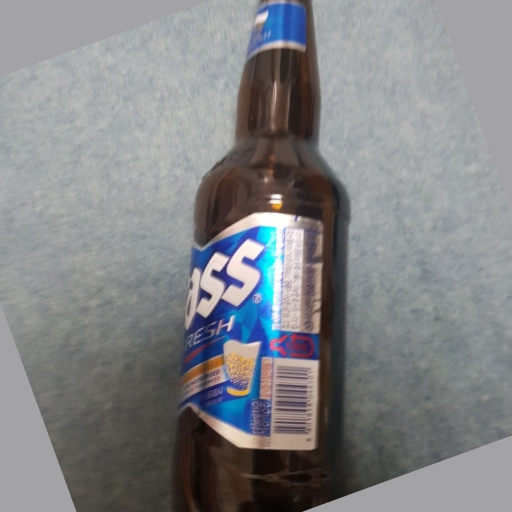Glass_1: (176, 1, 355, 512)
